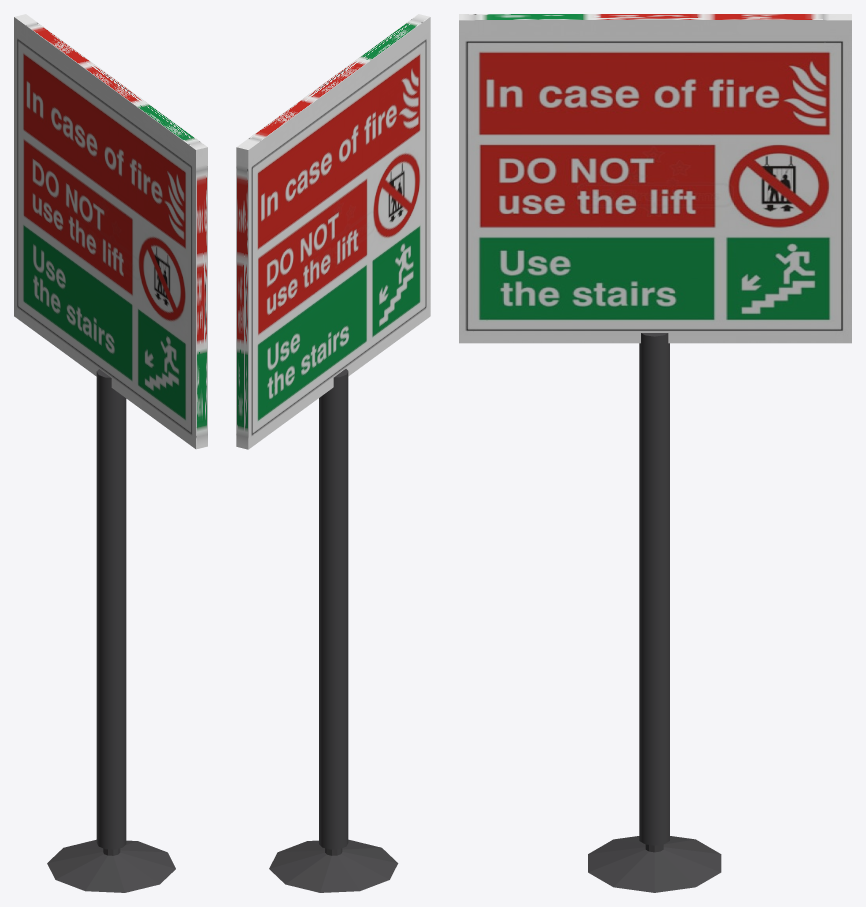
Rendered from sign stand2.FBX.
3 renders of one model, left to right at view 1: azimuth 30°, elevation 25°; view 2: azimuth 150°, elevation 25°; view 3: azimuth 270°, elevation 25°, orthographic. The views are drawn at different scales.
Visible parts, largest first — view 1: Cylinder5669; view 2: Cylinder5669; view 3: Cylinder5669.
Part boxes in pixels (left/top/right/bottom): Cylinder5669: left=14, top=14, right=207, bottom=892; Cylinder5669: left=236, top=14, right=430, bottom=892; Cylinder5669: left=459, top=14, right=851, bottom=892.
Size of the model in its own units: 9532 by 63485 by 26707.
2 materials, 1 textured.
